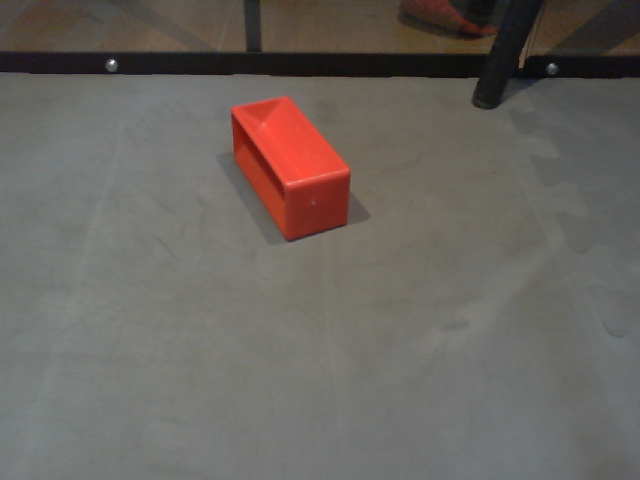RedSample: (227, 94, 353, 245)
